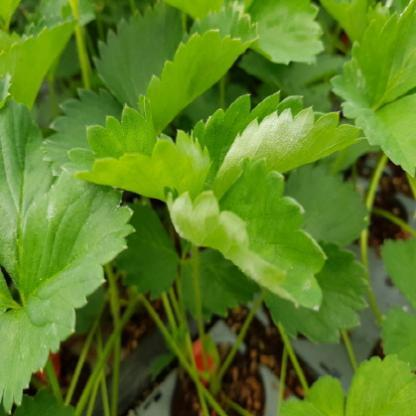Strawberry_Powdery_Mildew_Leaf: (163, 156, 328, 313), (13, 168, 138, 334), (189, 88, 371, 193)
